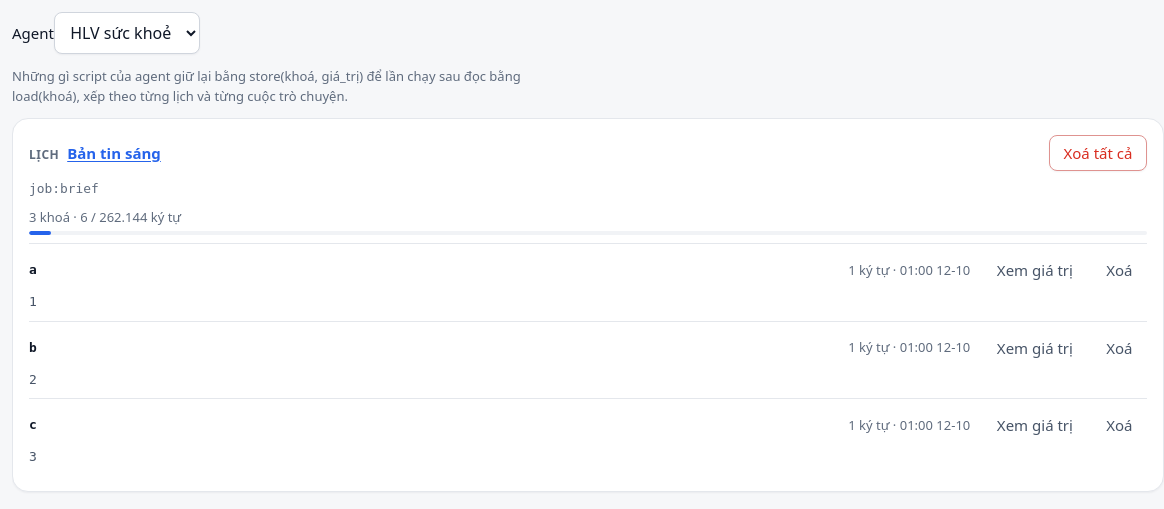
Scenario: deleting one key › says nothing was left to delete when the server no longer had the key, and still takes the row out
Click the 2nd button "Xoá": (1119,348) [1092,330,1147,366]
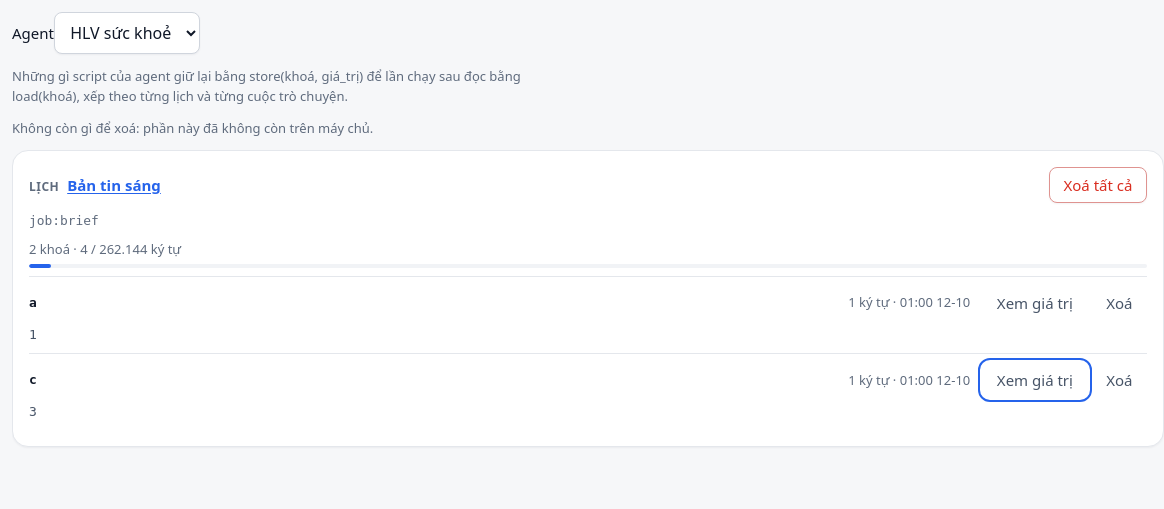
Expected: the message reads "Không còn gì để xoá: phần này đã không còn trên máy chủ.", [12,119,373,137]
